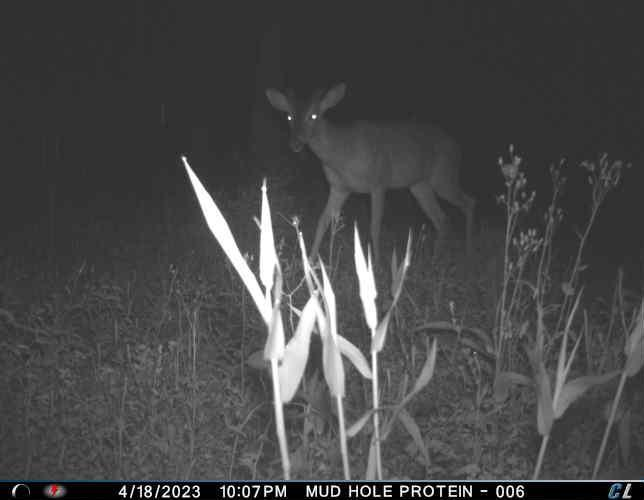Deer: (261, 79, 480, 263)
